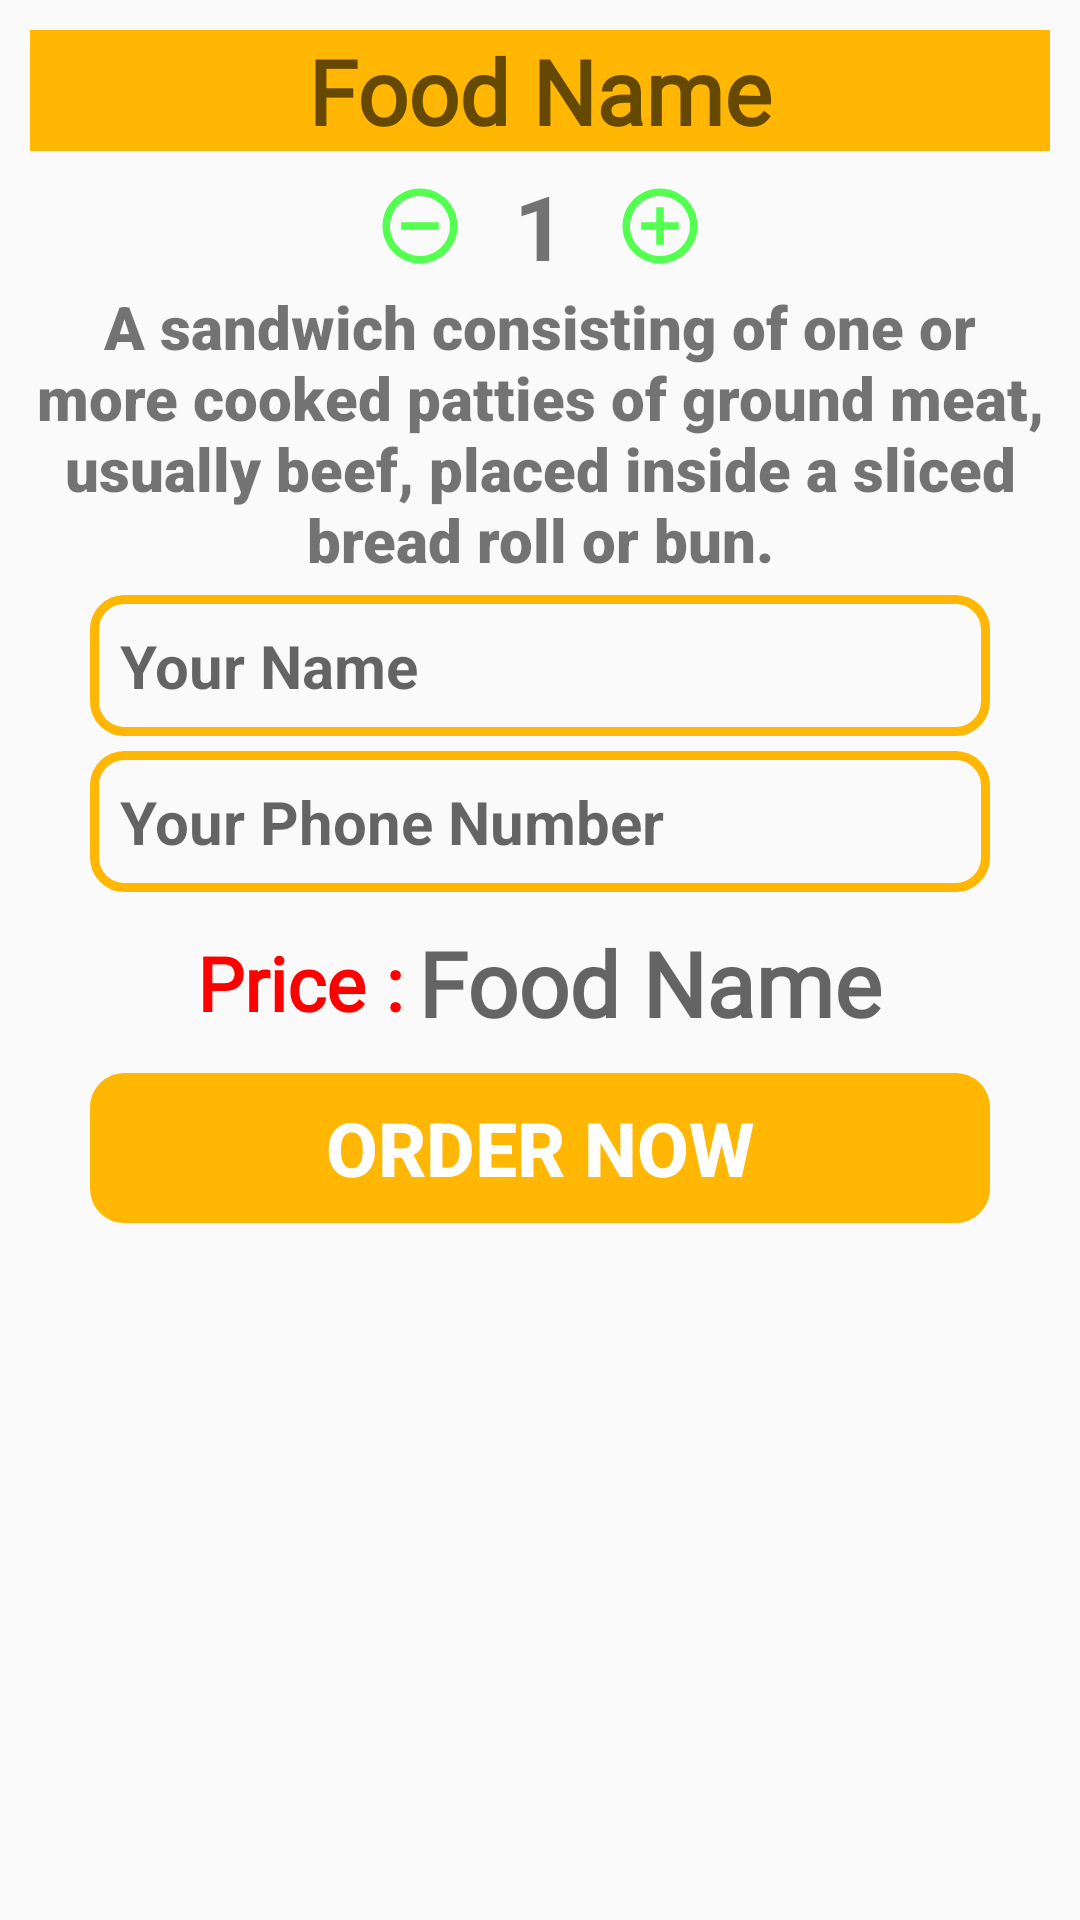

Named icons in this screenshot (1080px×1920px) and their bounding boxes, bbox=[x1, y1, x2, y2]:
decrease: bbox=[382, 188, 458, 264]
increase: bbox=[622, 188, 698, 264]
